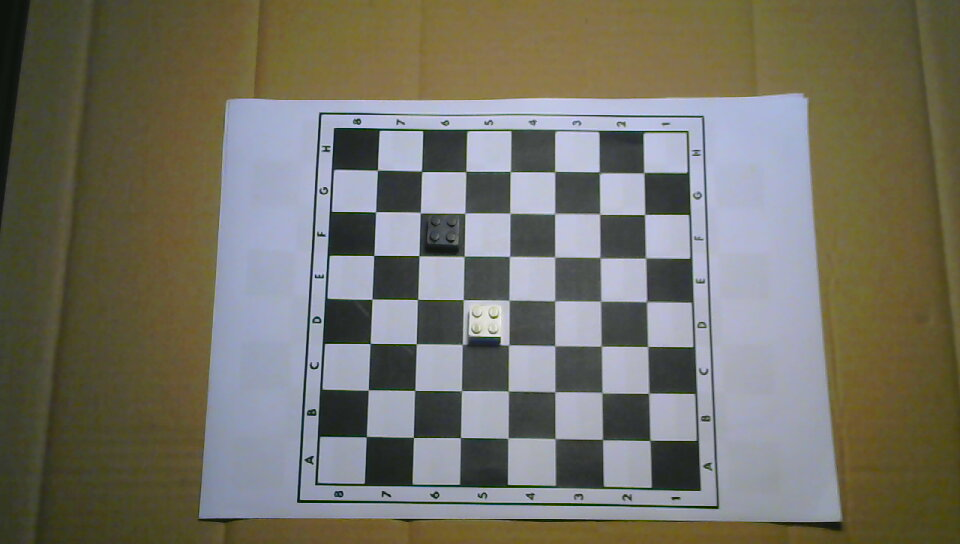bp: (424, 213, 460, 252)
wp: (467, 303, 503, 345)
